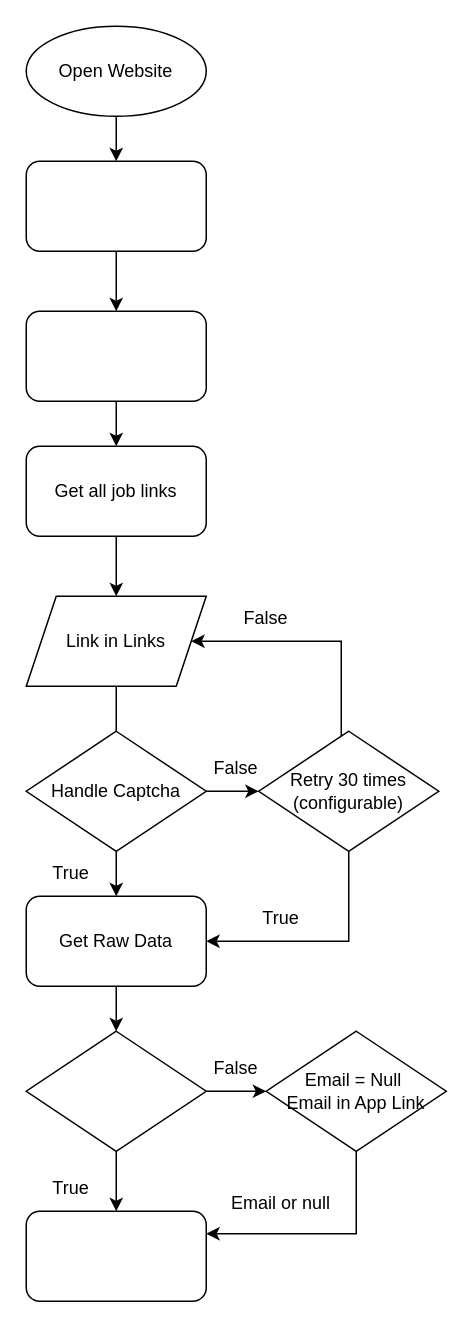
Some shapes in this 473 by 1328 pixel diagram are drawn without their labels. Here are the shapes that lost their labels. From the top down, the centre of each, then its label:
pixel 115 205: Click "Accept All Coockie" to access
pixel 115 355: Click "Weitere Ergebnisse" button to render more data
pixel 115 1090: Email = Null Email in JD
pixel 115 1255: Final Data
